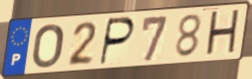2: (68, 20, 98, 68)
7: (140, 14, 170, 63)
8: (173, 13, 203, 59)
H: (203, 7, 242, 59)
O: (31, 22, 66, 70)
P: (98, 15, 137, 67)
